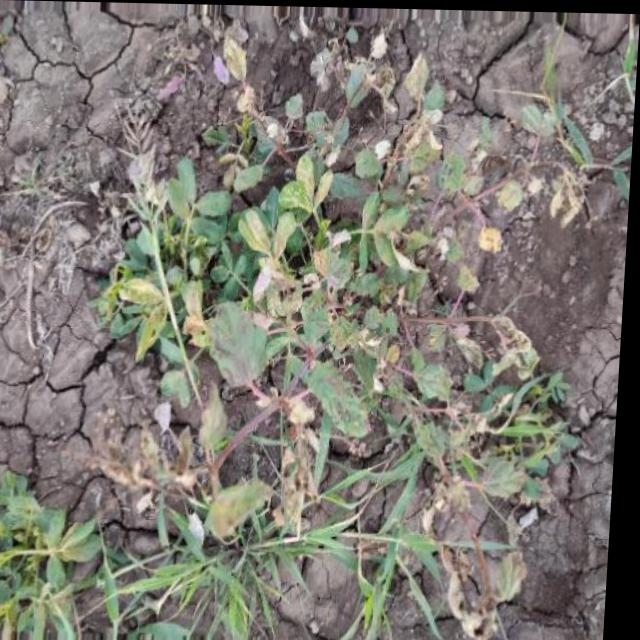weed: (35, 20, 608, 618)
